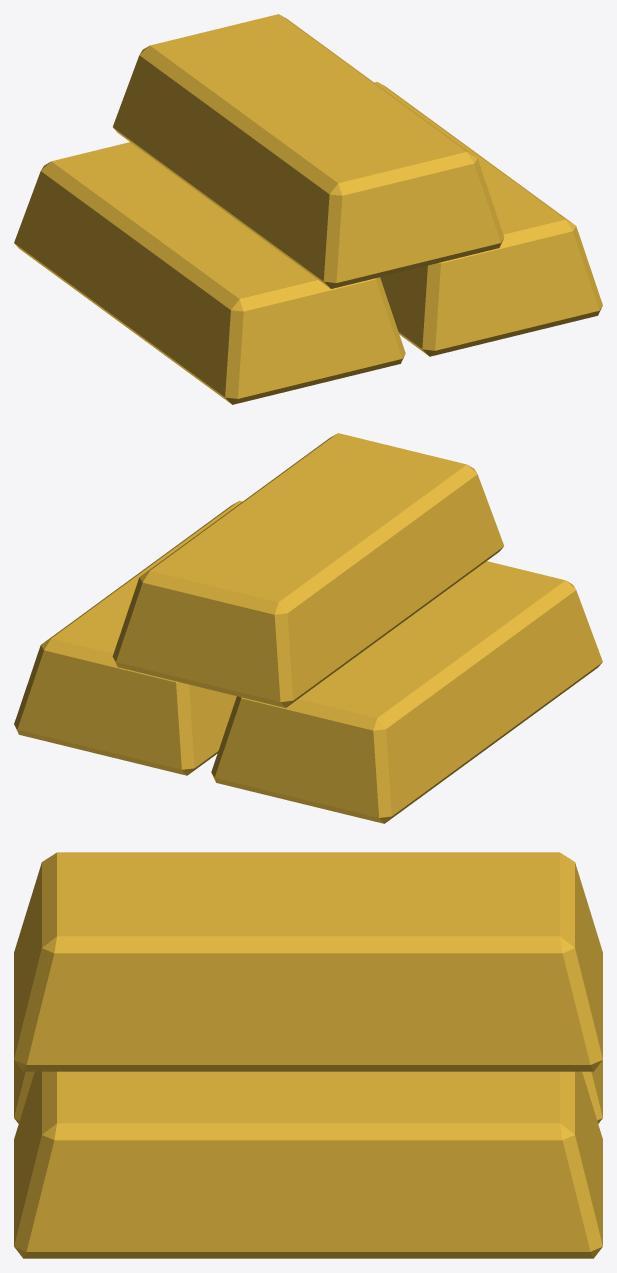
Rendered from GoldBarStack.fbx.
The picture shows the model from 3 angles, top to bottom: view 1: azimuth 30°, elevation 25°; view 2: azimuth 150°, elevation 25°; view 3: azimuth 270°, elevation 25°; orthographic projection. The views are drawn at different scales.
Parts seen in each view (by area): view 1: GoldBarStack; view 2: GoldBarStack; view 3: GoldBarStack.
Boxes of the visible parts, x1,y1,x2,y2 form: GoldBarStack: (14,14,602,404); GoldBarStack: (14,433,602,823); GoldBarStack: (14,852,602,1258).
Size of the model in its own units: 86.21 by 40 by 87.13.
